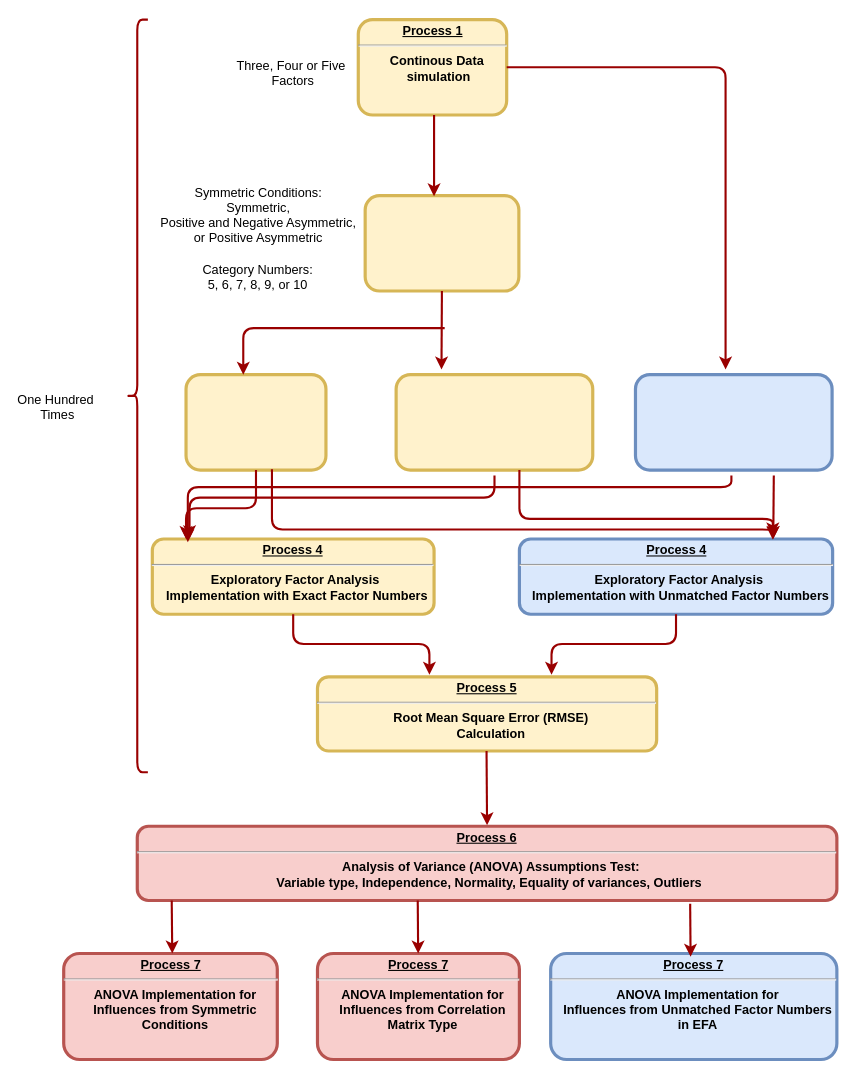
This 858x1079 diagram has some shape labels left out. Each missing label, with the box of its shape:
Process 2 Data Transformation: (363, 193, 520, 292)
Process 3 Obtain Polychoric Correlation Matrix: (184, 373, 327, 471)
Process 3 Obtain the First Pearson's Correlation Matrix: (394, 373, 594, 471)
Process 3 Obtain the Second Pearson's Correlation Matrix: (633, 373, 833, 471)
